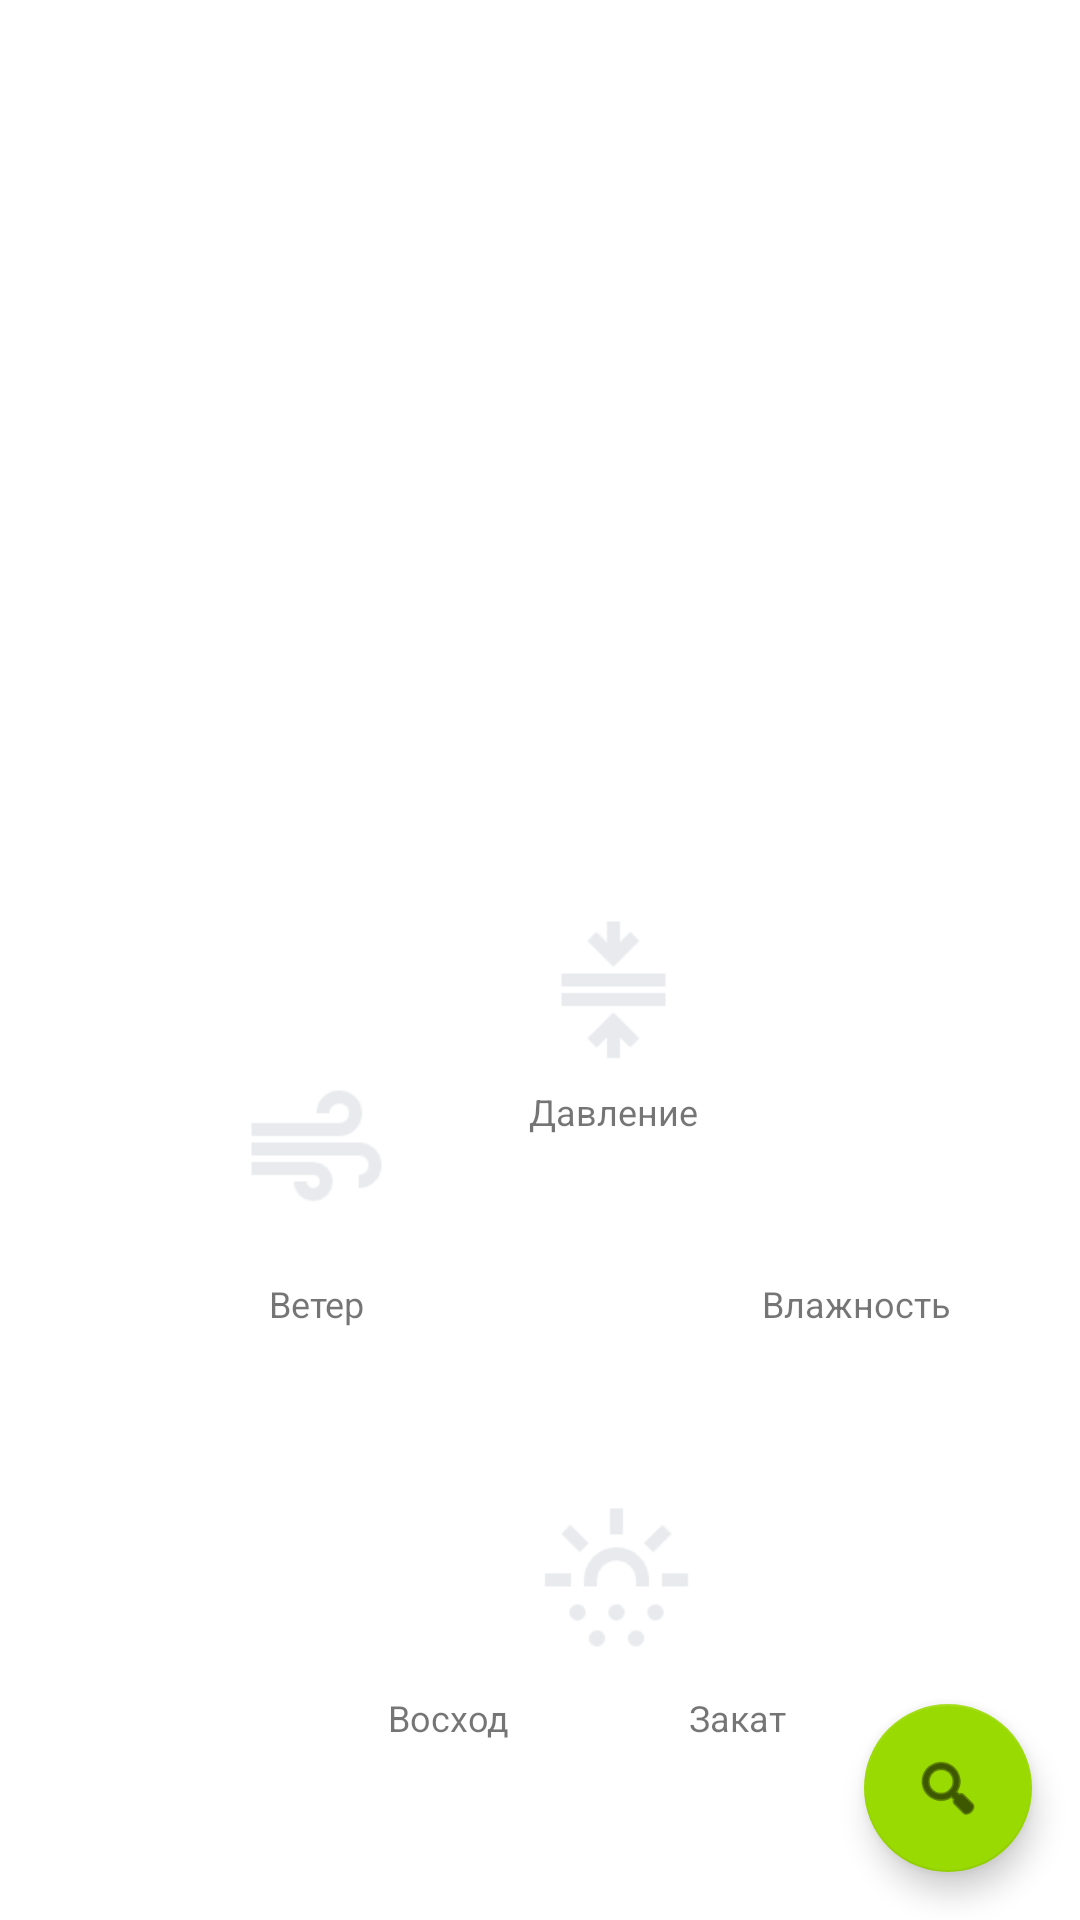

Where to tap for icons on this 1080 x 1920 app screen, as (x,y):
search: (948,1788)
